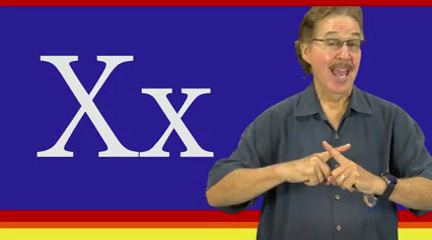X: (282, 138, 373, 200)
